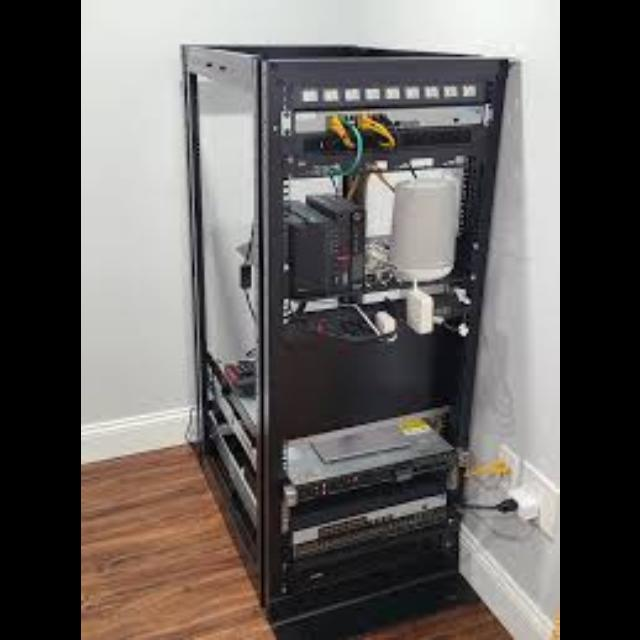Server: (216, 44, 490, 616)
